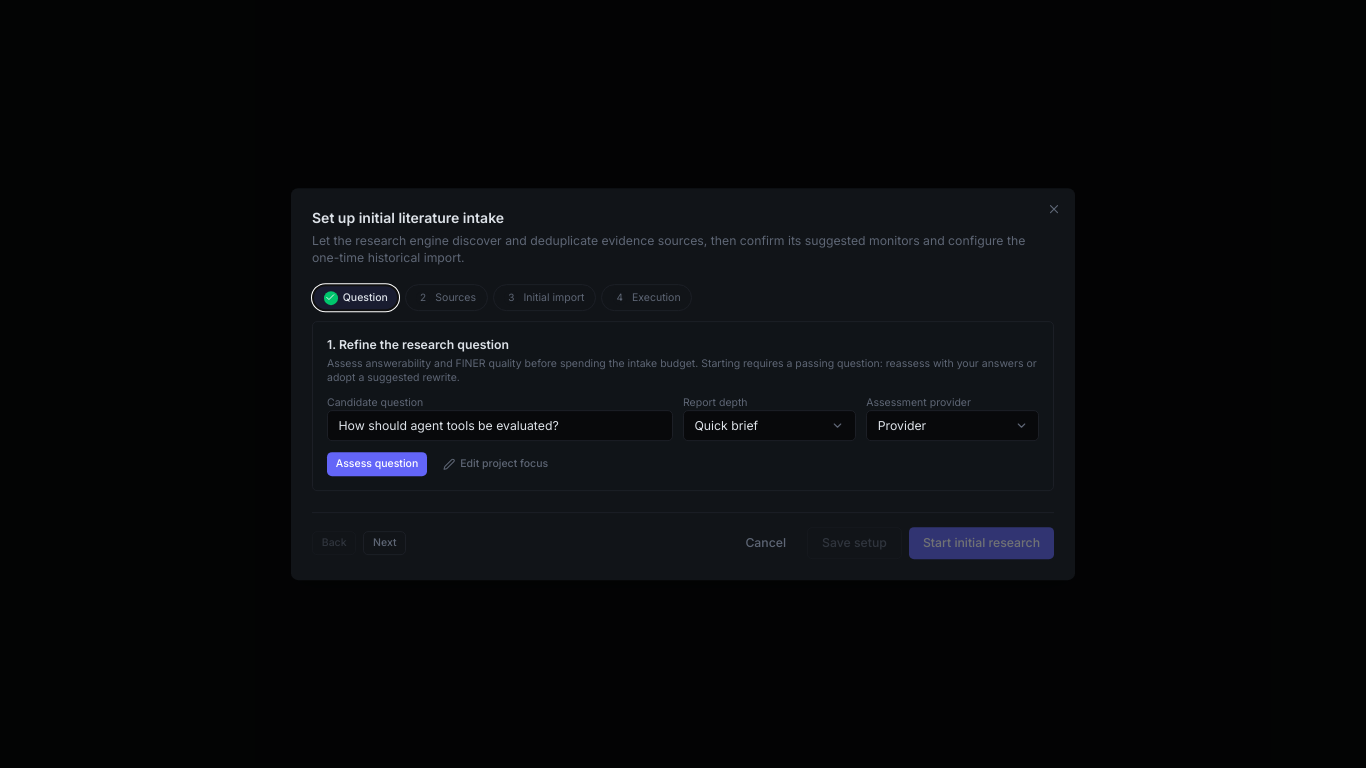
Test case: ResearchSetupDialog › previews engine suggestions and confirms selected providers as project sources
The image size is (1366, 768).
Click the button "2 Sources" at [446, 298], box top-left (405, 284), bottom-right (488, 311)
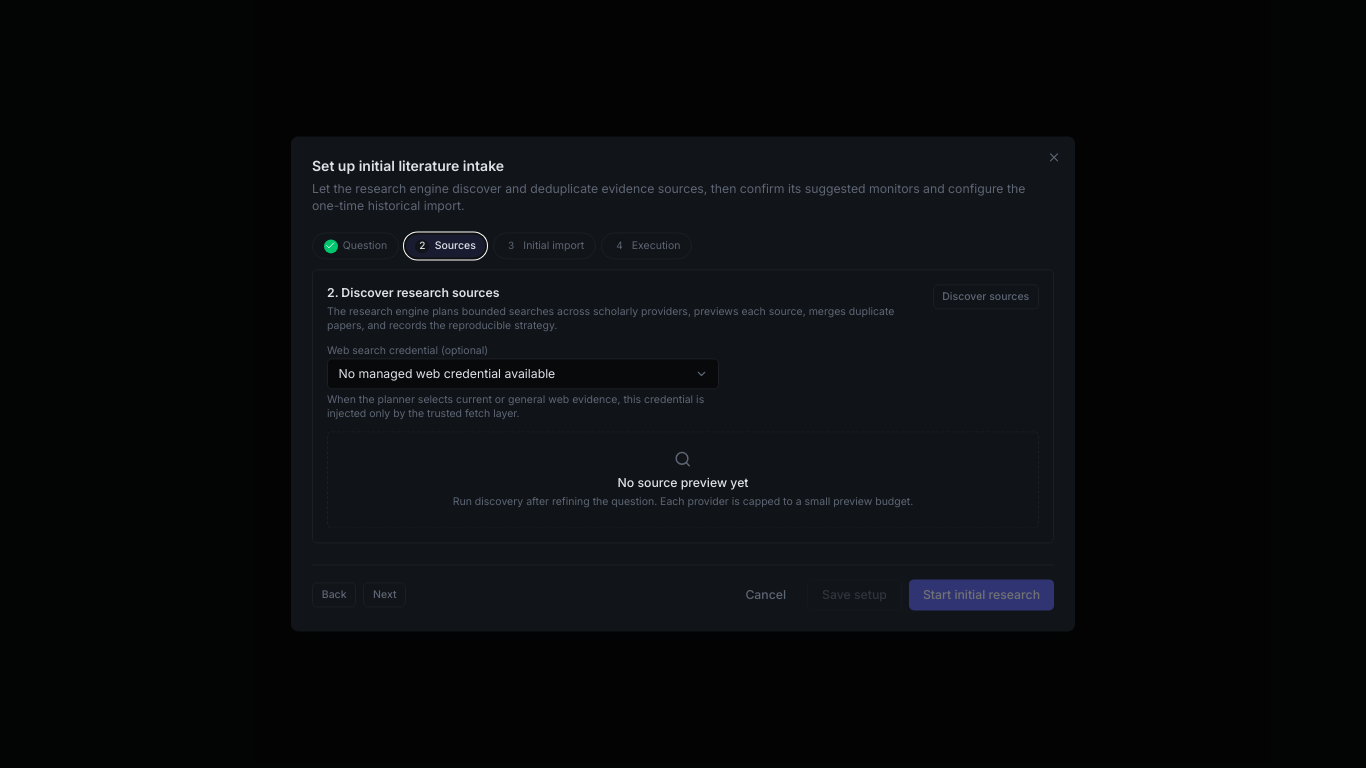
Click the button "Discover sources" at [986, 297], box top-left (932, 285), bottom-right (1039, 309)
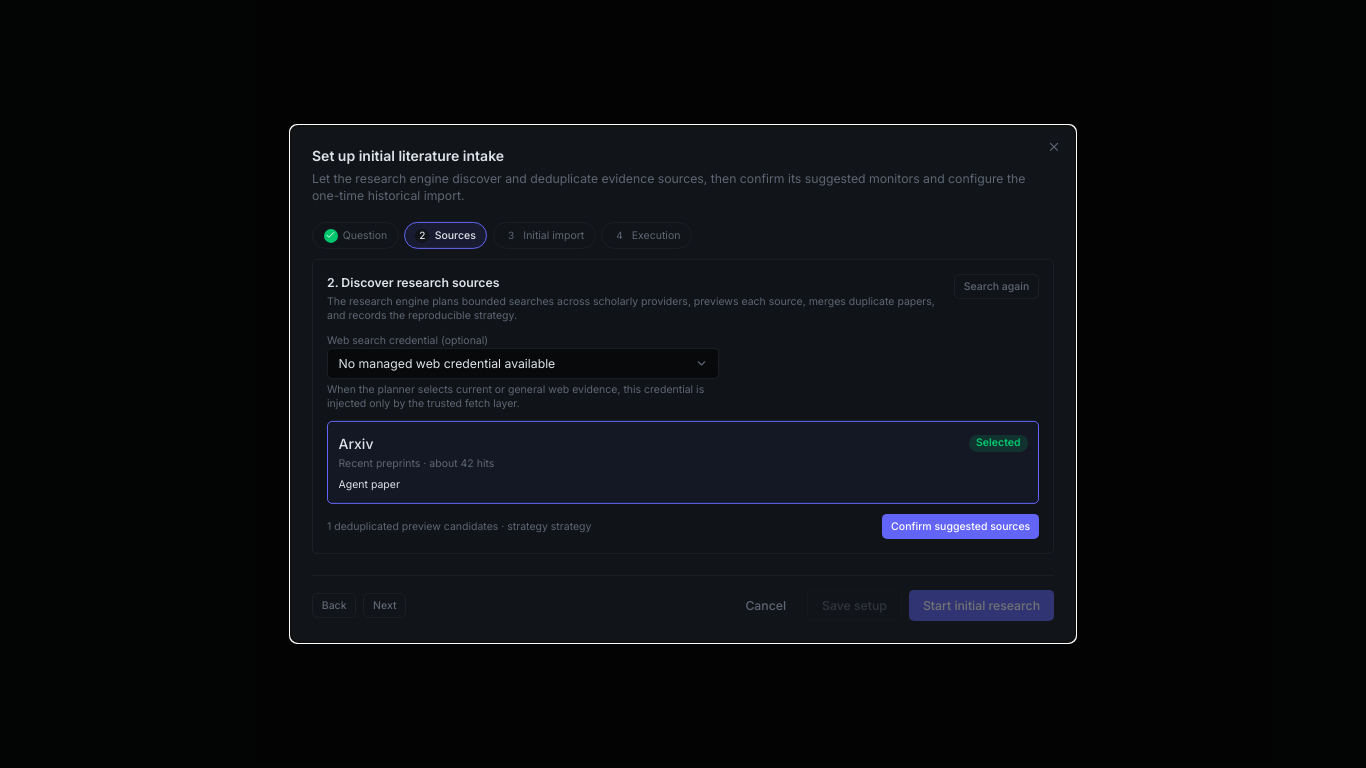
Expected: the text "Recent preprints · about 42 hits" is shown, top-left (338, 457), bottom-right (494, 470)
Click the button "Confirm suggested sources" at [961, 526], box top-left (882, 514), bottom-right (1039, 539)
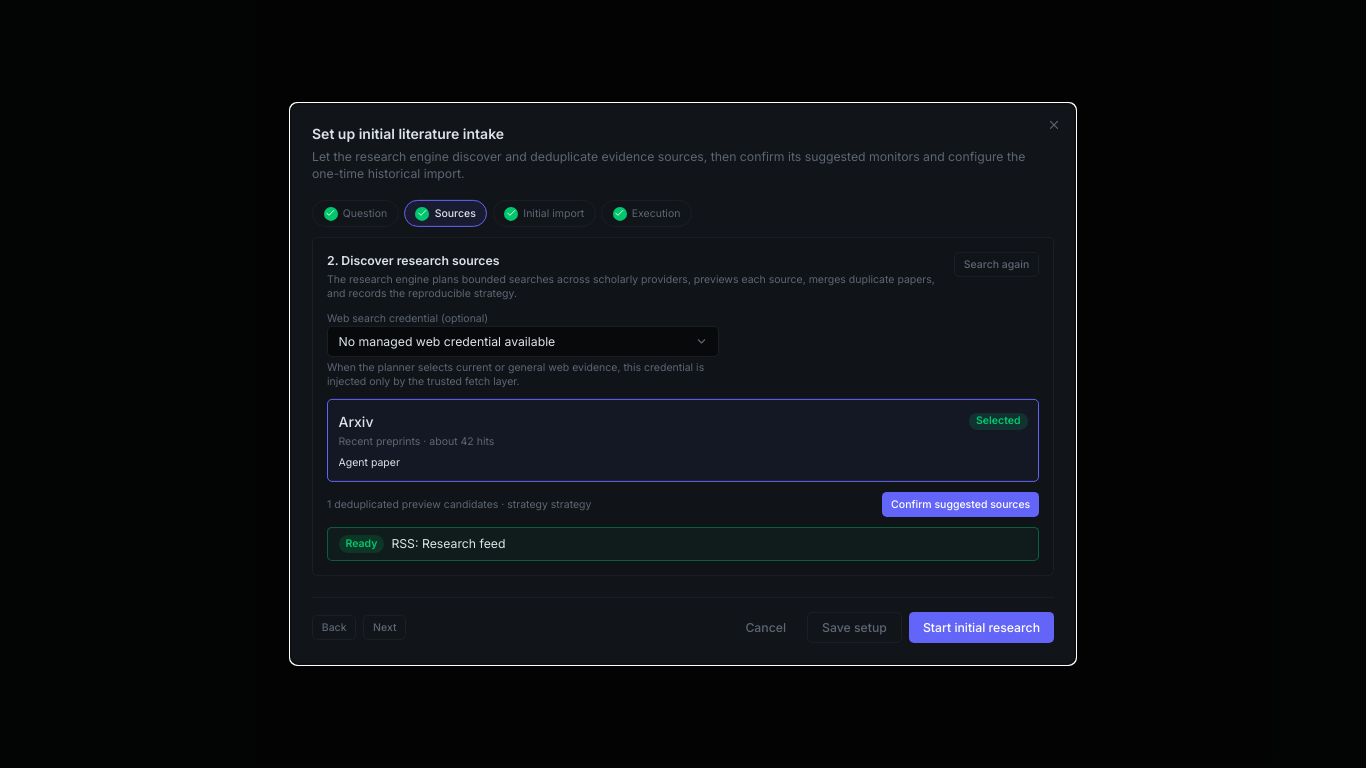
Expected: the text "Ready" is shown, top-left (338, 535), bottom-right (384, 553)
